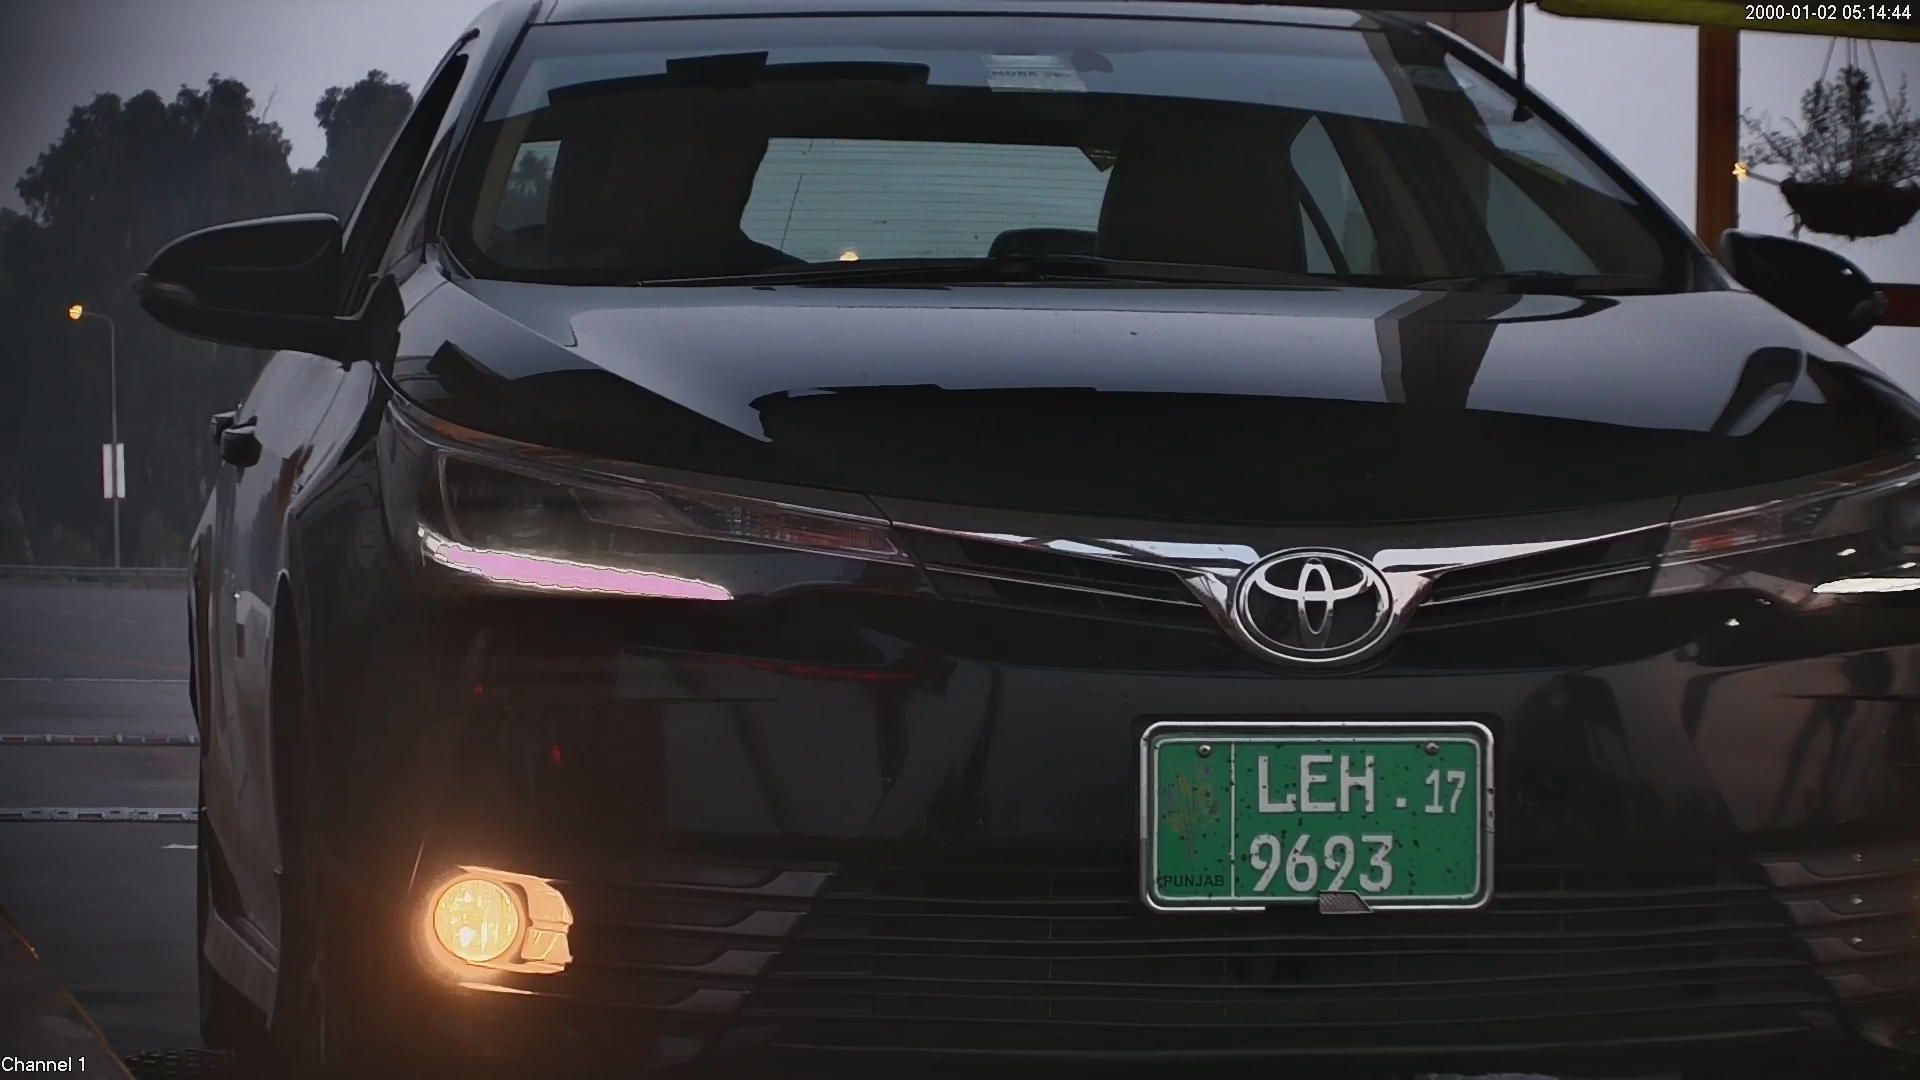Number_Plate: (1119, 693, 1515, 930)
